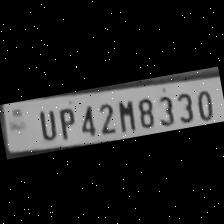0: (190, 85, 216, 121)
2: (92, 98, 116, 135)
3: (152, 90, 176, 127), (172, 86, 194, 122)
4: (73, 100, 99, 137)
8: (132, 92, 154, 128)
M: (111, 96, 138, 132)
P: (53, 104, 78, 140)
U: (32, 106, 58, 142)
